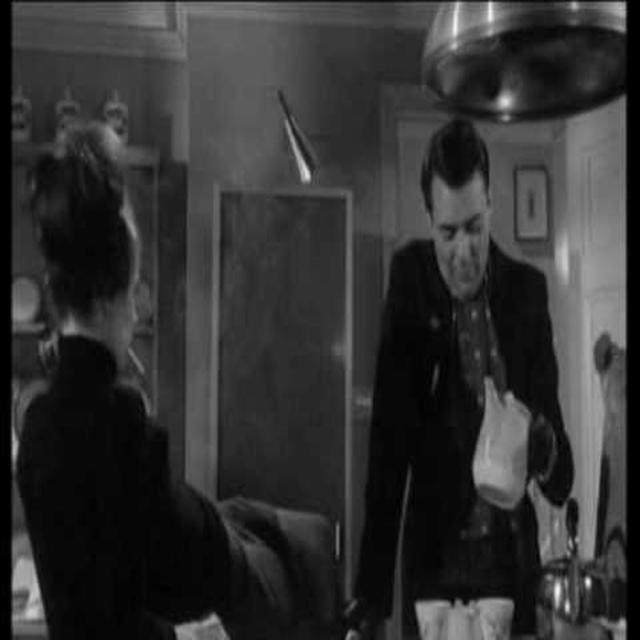smoking: (42, 148, 167, 380)
